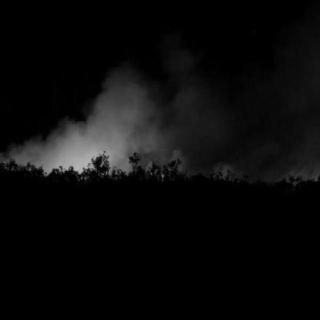Smoke: (28, 77, 166, 151)
